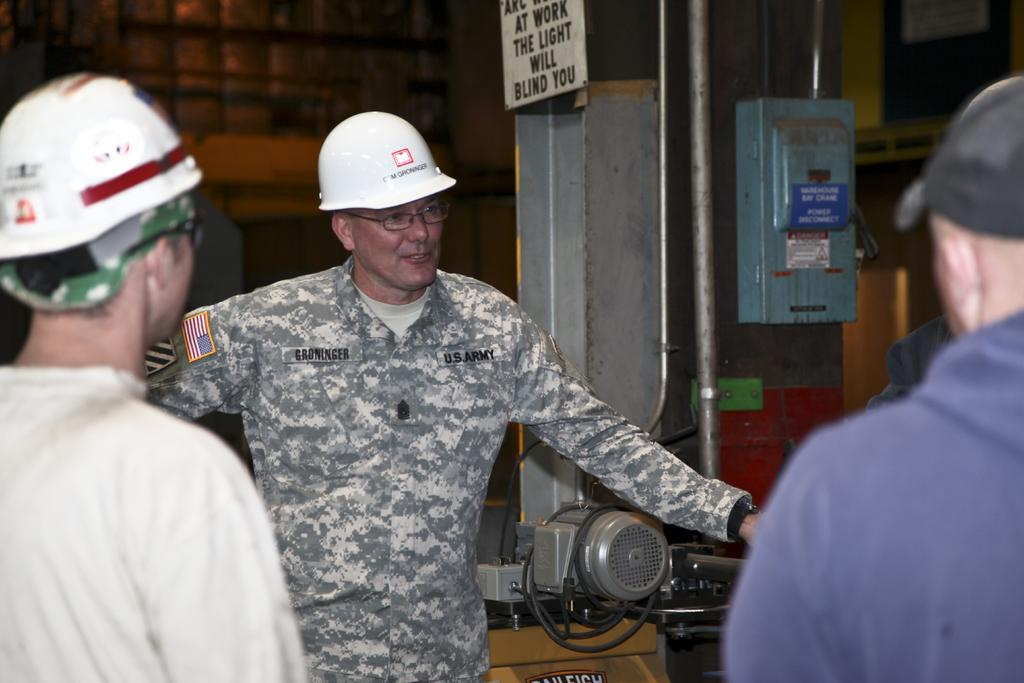Hat: (898, 70, 1024, 239)
